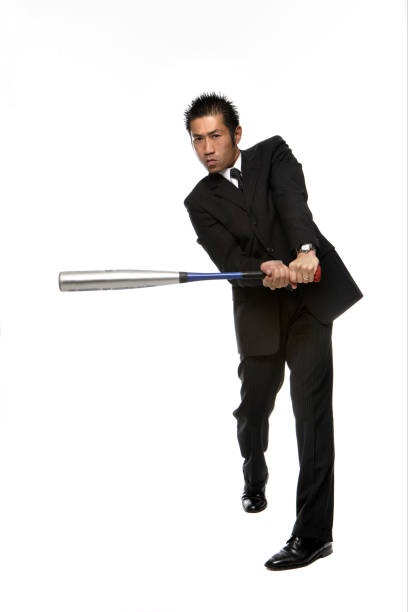bita: (53, 262, 320, 298)
